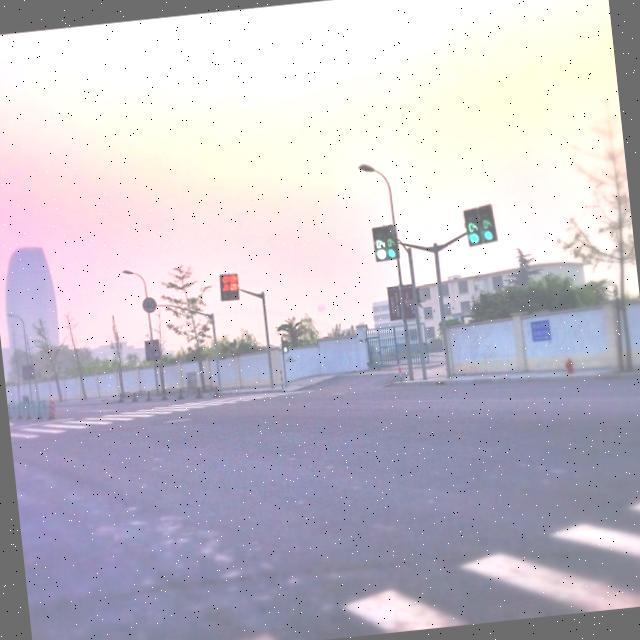fire_hydrant: (562, 356, 574, 374)
